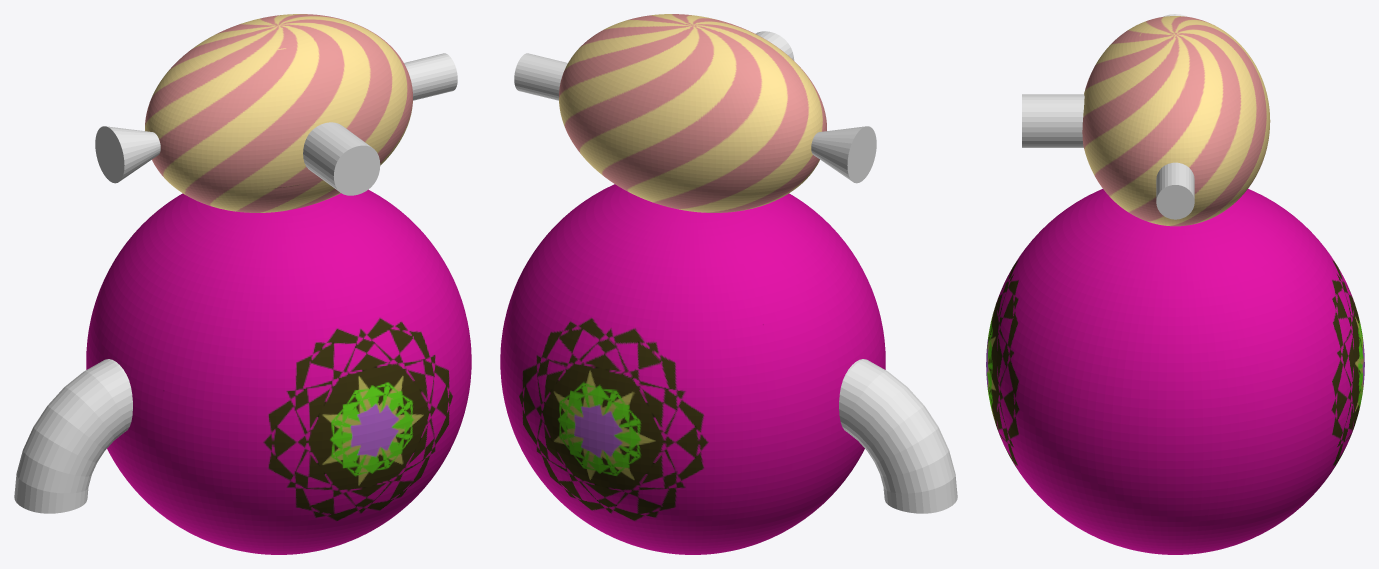
File: BOD0_BMC10_BCC4_BPT0_FRC5_HEA1_HMC13_HCC11_HPT3_ELT3_ERT1_ELL0_ERL1_AP1_AAL2_AAR2_BEK1.fbx
3 renders of one model, left to right at view 1: azimuth 30°, elevation 25°; view 2: azimuth 150°, elevation 25°; view 3: azimuth 270°, elevation 25°, orthographic.
Visible parts, largest first — view 1: Body, Arm, Beak, Ear, Ear.001; view 2: Body, Arm, Ear, Ear.001; view 3: Body, Beak, Ear.001.
Part boxes in pixels (x1=…): Body: x1=86, y1=14, x2=471, y2=554; Arm: x1=14, y1=359, x2=132, y2=513; Beak: x1=303, y1=122, x2=380, y2=195; Ear: x1=95, y1=126, x2=160, y2=183; Ear.001: x1=404, y1=53, x2=457, y2=100; Body: x1=500, y1=14, x2=885, y2=554; Arm: x1=839, y1=359, x2=957, y2=513; Ear: x1=811, y1=126, x2=876, y2=183; Ear.001: x1=514, y1=53, x2=567, y2=100; Body: x1=986, y1=16, x2=1364, y2=554; Beak: x1=1022, y1=94, x2=1084, y2=147; Ear.001: x1=1156, y1=162, x2=1194, y2=219.
Size of the model in its own units: 63.31 by 72.41 by 49.36.
Materials: 1 (1 with a texture image).
